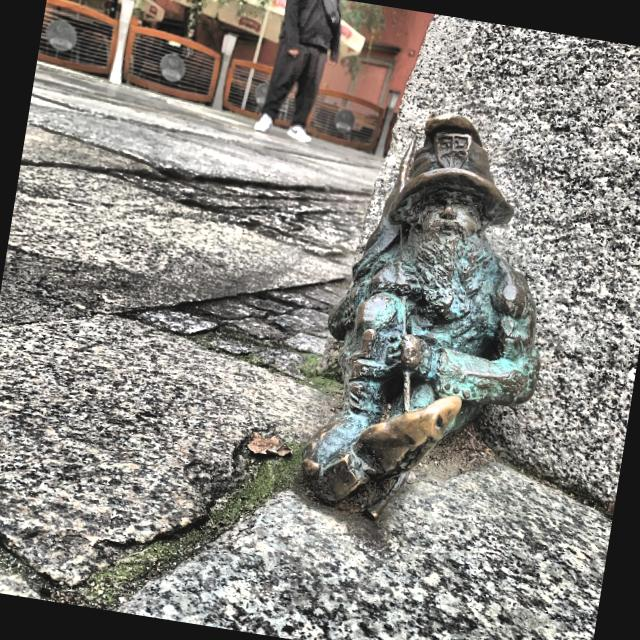Spioch: (303, 115, 539, 502)
